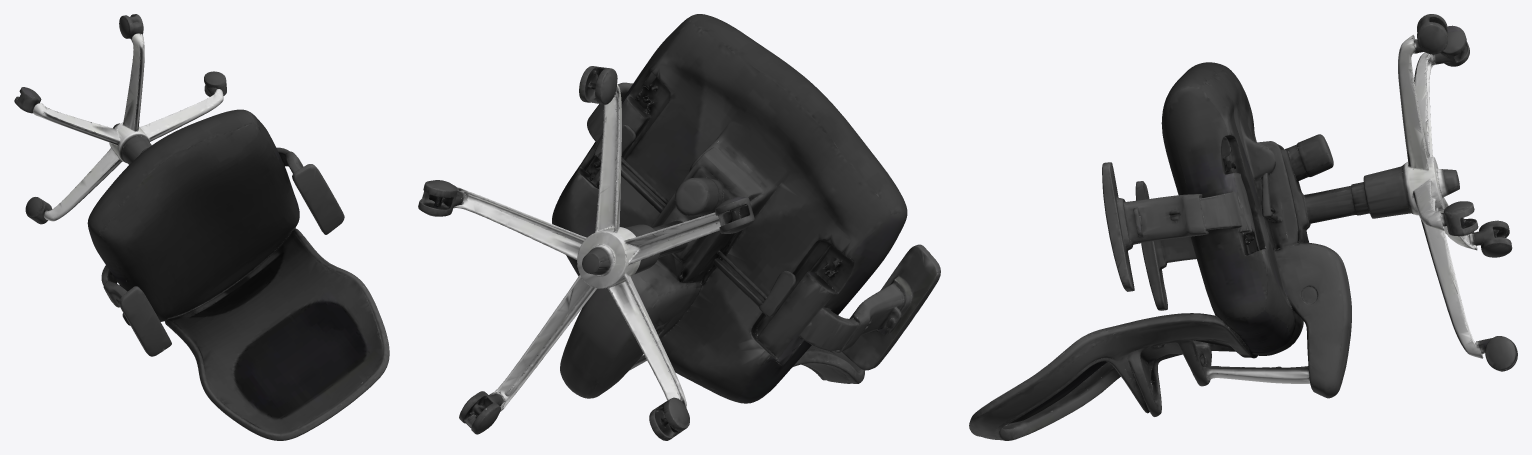
Rendered from final_2nd_floor_12.glb.
The picture shows the model from 3 angles, left to right: view 1: azimuth 30°, elevation 25°; view 2: azimuth 150°, elevation 25°; view 3: azimuth 270°, elevation 25°; orthographic projection. The views are drawn at different scales.
Parts seen in each view (by area): view 1: Ramdhan.011; view 2: Ramdhan.011; view 3: Ramdhan.011.
Boxes of the visible parts, bbox=[...] form: Ramdhan.011: bbox=[14, 14, 389, 440]; Ramdhan.011: bbox=[418, 14, 940, 440]; Ramdhan.011: bbox=[969, 14, 1517, 440].
Bounding box in the file's own units: 0.0208 × 0.0271 × 0.0321.
Materials: 1 (1 with a texture image).
